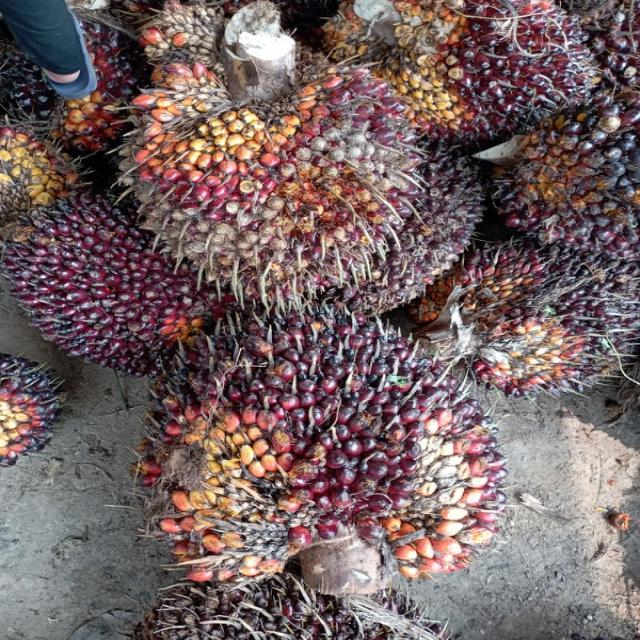fraksi 1: (111, 298, 563, 606)
